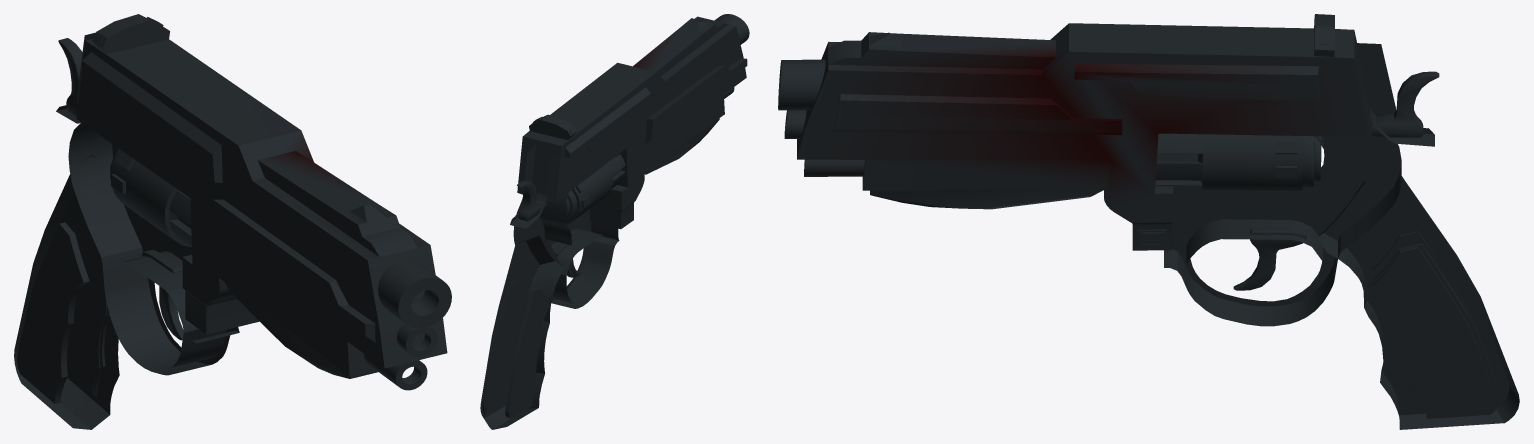
File: pistol.glb
3 renders of one model, left to right at view 1: azimuth 30°, elevation 25°; view 2: azimuth 150°, elevation 25°; view 3: azimuth 270°, elevation 25°, orthographic. The views are drawn at different scales.
Parts seen in each view (by area): view 1: Body, Shoot, Trig; view 2: Body, Shoot, Trig; view 3: Body, Shoot, Trig.
Part boxes in pixels (x1,y1,x2,y2): Body: (14, 14, 447, 429); Shoot: (81, 17, 451, 390); Trig: (17, 222, 106, 403); Body: (480, 16, 746, 429); Shoot: (533, 14, 749, 277); Trig: (485, 283, 549, 418); Body: (797, 14, 1519, 429); Shoot: (778, 31, 1329, 290); Trig: (1372, 231, 1497, 418).
Bounding box in the file's own units: 0.0258 × 0.134 × 0.22.
